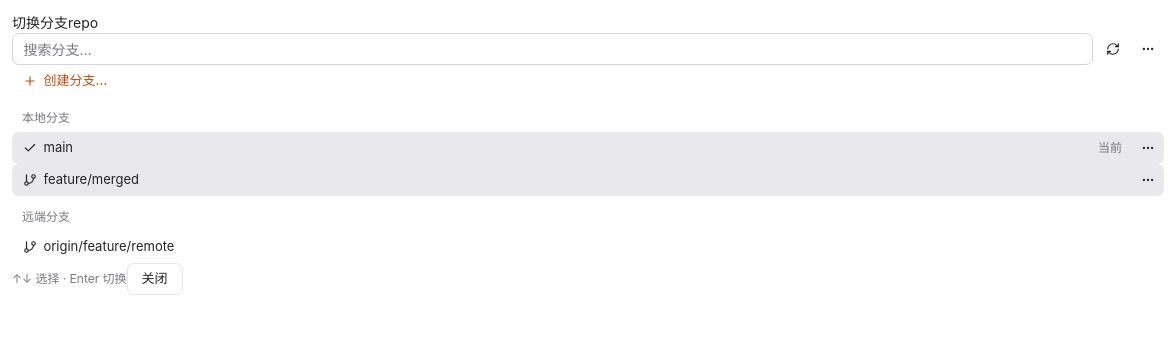
Test: branch picker › shows one fetch failure and clears it on successful retry
Expected: the text "feature/merged" is shown, [44,171,139,187]
Click the button named "刷新分支列表" at (1113, 49), box [1097,33,1128,65]
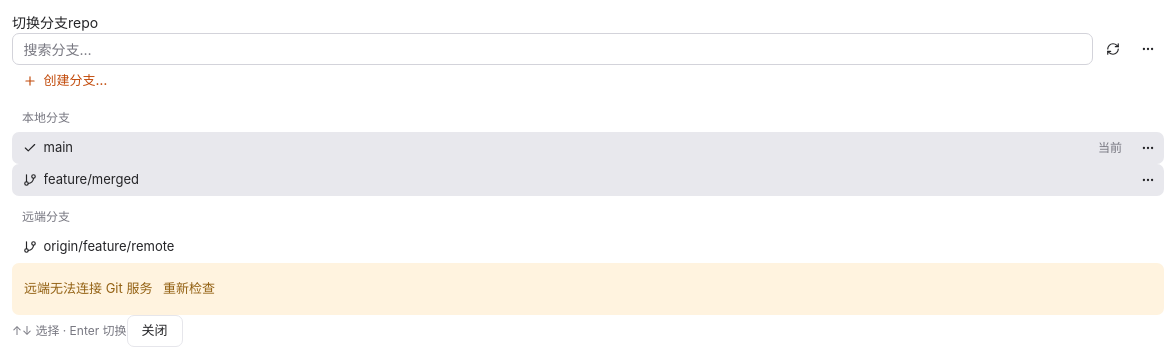
Result: the text "远端无法连接 Git 服务" is shown once at [12,263,1164,315]
Click the button "重新检查" at (189, 289), box [152,273,225,305]
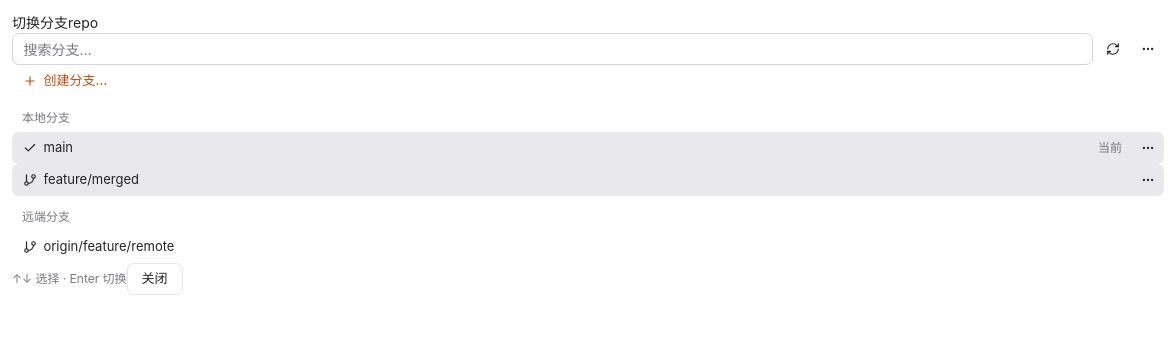
Result: the text "远端无法连接 Git 服务" is gone
